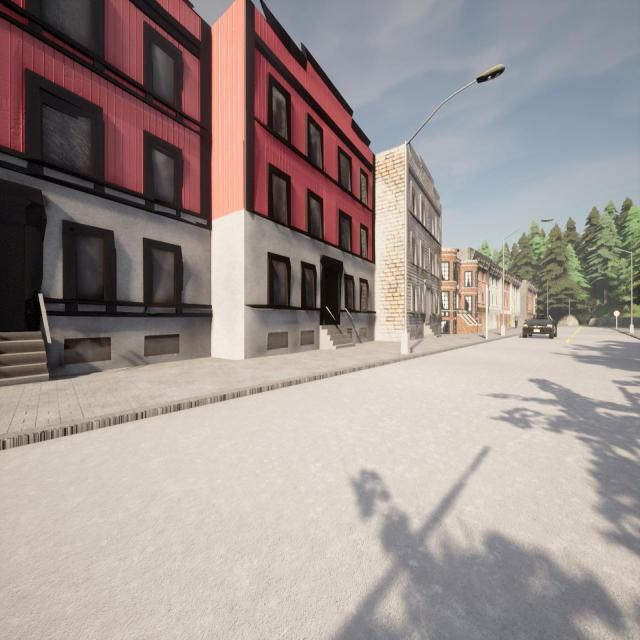Pedestrian: (514, 312, 520, 328), (508, 319, 512, 331)
Traffic_Signs: (613, 309, 621, 317)
Vehicle: (522, 313, 556, 339)
traffic_light: (486, 290, 490, 306)
